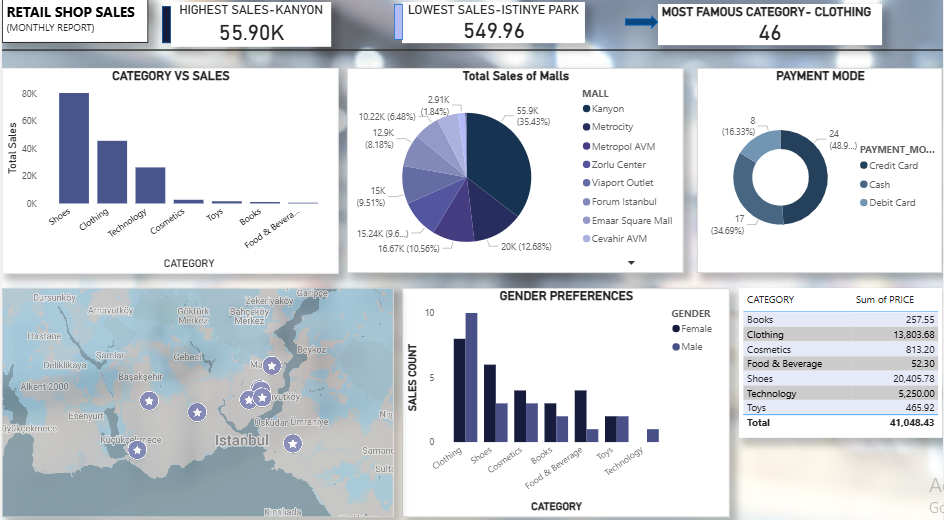

The page's visual inventory and layout, read from the dashboard file:
{"tool":"powerbi","page":{"name":"Page 1","canvas":[1280,720],"ordinal":0},"visuals":[{"type":"columnChart","title":"CATEGORY VS SALES","fields":{"Category":["retail details.CATEGORY"],"Y":["Sum(retail details.TOTAL SALES)"]},"box":[0,95.8,458,280.4],"z":0},{"type":"textbox","box":[0,0,198.5,61],"z":1000},{"type":"shape","box":[0,61,1280,19.2],"z":2000},{"type":"pieChart","title":"Total Sales of Malls","fields":{"Category":["retail details.MALL"],"Y":["Sum(retail details.TOTAL SALES)"]},"box":[470.2,95.8,458,278.6],"z":3000},{"type":"card","title":"HIGHEST SALES-KANYON","fields":{"Values":["Sum(retail details.TOTAL SALES)"]},"box":[229.9,5.2,217.7,61],"z":4000},{"type":"shape","box":[217.7,10.4,12.2,50.5],"z":5000},{"type":"card","title":"LOWEST SALES-ISTINYE PARK","fields":{"Values":["Sum(retail details.TOTAL SALES)"]},"box":[545.1,5.2,249,55.7],"z":6000},{"type":"shape","box":[532.9,8.7,12.2,48.8],"z":7000},{"type":"card","title":"MOST FAMOUS CATEGORY- CLOTHING","fields":{"Values":["Sum(retail details.QUANTITY)"]},"box":[893.4,8.7,304.8,55.7],"z":8000},{"type":"shape","box":[848.1,22.6,45.3,19.2],"z":9000},{"type":"clusteredColumnChart","title":"GENDER PREFERENCES","fields":{"Category":["retail details.CATEGORY"],"Series":["retail details.GENDER"],"Y":["CountNonNull(retail details.GENDER)"]},"box":[545.1,395.3,445.8,311.7],"z":10000},{"type":"donutChart","title":"PAYMENT MODE","fields":{"Category":["retail details.PAYMENT_MODE"],"Y":["CountNonNull(retail details.PAYMENT_MODE)"]},"box":[945.6,95.8,334.4,278.6],"z":11000},{"type":"actionButton","box":[0,395.3,532.9,311.7],"z":13000},{"type":"tableEx","fields":{"Values":["retail details.CATEGORY","Sum(retail details.PRICE)"]},"box":[1003.1,395.3,276.9,203.8],"z":14000}]}

Visuals, with their boxes in screenshot pixels (x1, y1, x2, y2), scaled from the page's 1280x720 canvas onto the 944x520 screenshot:
"CATEGORY VS SALES" columnChart: bbox(0, 69, 338, 272)
textbox: bbox(0, 0, 146, 44)
shape: bbox(0, 44, 943, 58)
"Total Sales of Malls" pieChart: bbox(347, 69, 685, 270)
"HIGHEST SALES-KANYON" card: bbox(170, 4, 330, 48)
shape: bbox(161, 8, 170, 44)
"LOWEST SALES-ISTINYE PARK" card: bbox(402, 4, 586, 44)
shape: bbox(393, 6, 402, 42)
"MOST FAMOUS CATEGORY- CLOTHING" card: bbox(659, 6, 884, 47)
shape: bbox(625, 16, 659, 30)
"GENDER PREFERENCES" clusteredColumnChart: bbox(402, 285, 731, 511)
"PAYMENT MODE" donutChart: bbox(697, 69, 943, 270)
actionButton: bbox(0, 285, 393, 511)
tableEx - retail details.CATEGORY x Sum(retail details.PRICE): bbox(740, 285, 943, 433)
